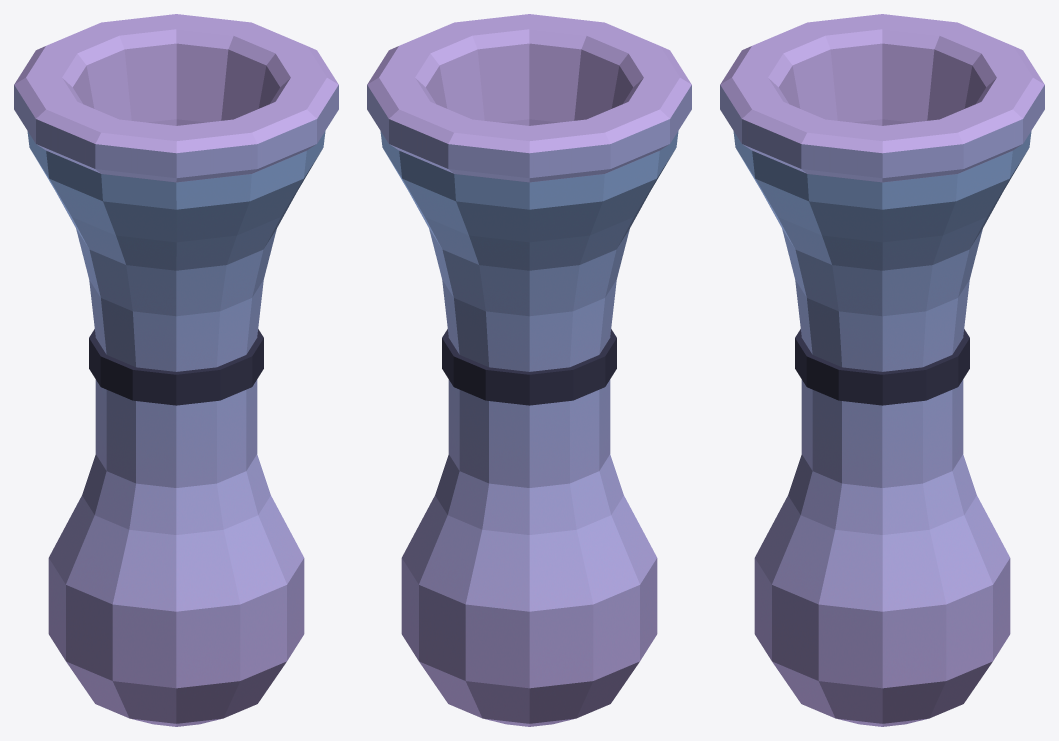
The model's file is cannon.obj.
3 views of the same model, side by side, from view 1: azimuth 30°, elevation 25°; view 2: azimuth 150°, elevation 25°; view 3: azimuth 270°, elevation 25° (orthographic).
Parts seen in each view (by area): view 1: 실린더_실린더.001; view 2: 실린더_실린더.001; view 3: 실린더_실린더.001.
Boxes of the visible parts, x1=… form: 실린더_실린더.001: x1=14, y1=14, x2=338, y2=726; 실린더_실린더.001: x1=367, y1=14, x2=691, y2=726; 실린더_실린더.001: x1=720, y1=14, x2=1044, y2=726.
Bounding box in the file's own units: 3.88 × 8.3 × 3.88.
1 material, 1 textured.
